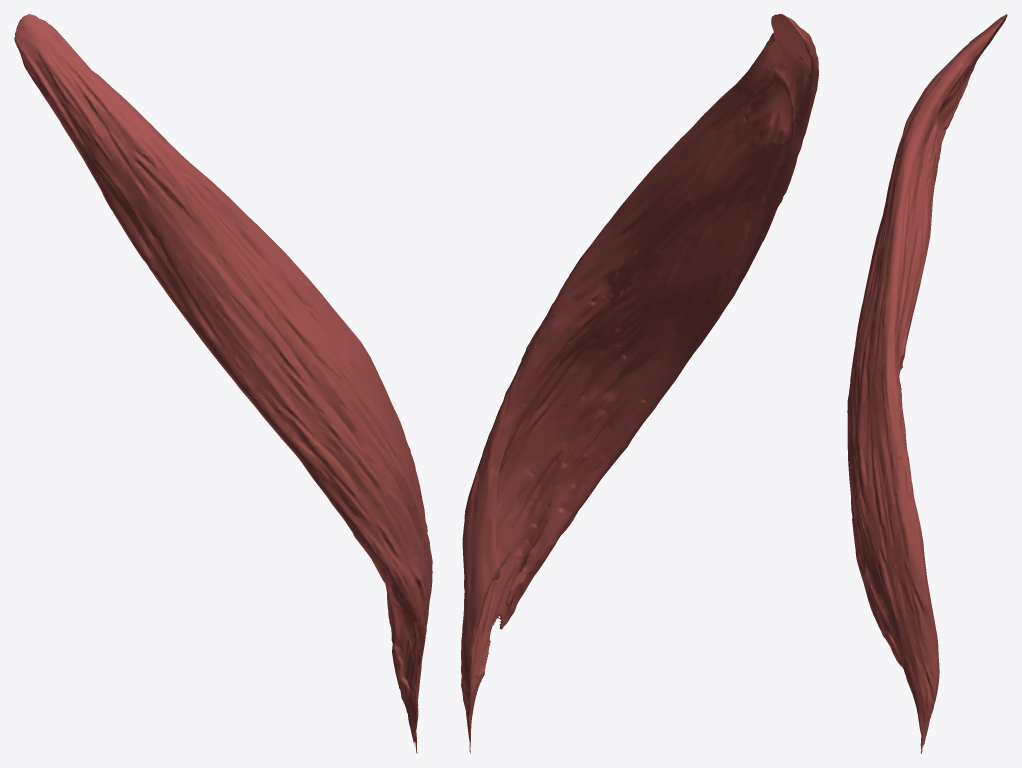
Rendered from FMA38561.glb.
3 renders of one model, left to right at view 1: azimuth 30°, elevation 25°; view 2: azimuth 150°, elevation 25°; view 3: azimuth 270°, elevation 25°, orthographic. The views are drawn at different scales.
Parts seen in each view (by area): view 1: FMA38561; view 2: FMA38561; view 3: FMA38561.
Boxes of the visible parts, x1=… form: FMA38561: x1=14, y1=14, x2=432, y2=753; FMA38561: x1=461, y1=14, x2=818, y2=753; FMA38561: x1=847, y1=14, x2=1007, y2=753.
Size of the model in its own units: 0.07 by 0.1469 by 0.0348.
